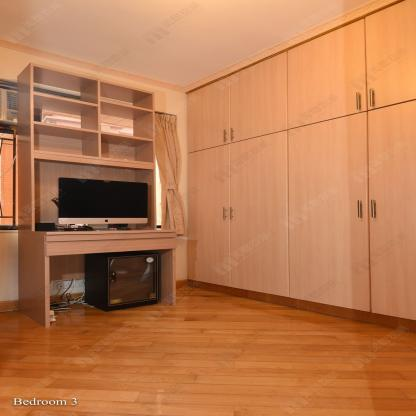Closet: (185, 0, 416, 334)
